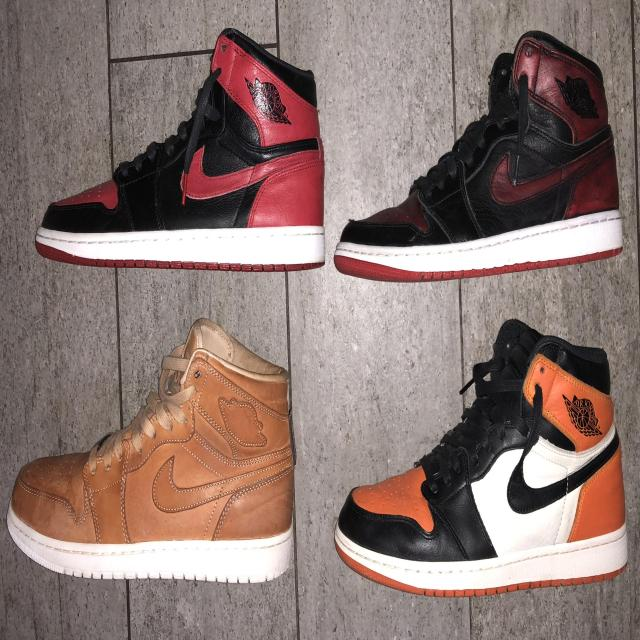shoe: (331, 313, 634, 610), (5, 312, 302, 594), (332, 21, 629, 290), (32, 19, 329, 280)
